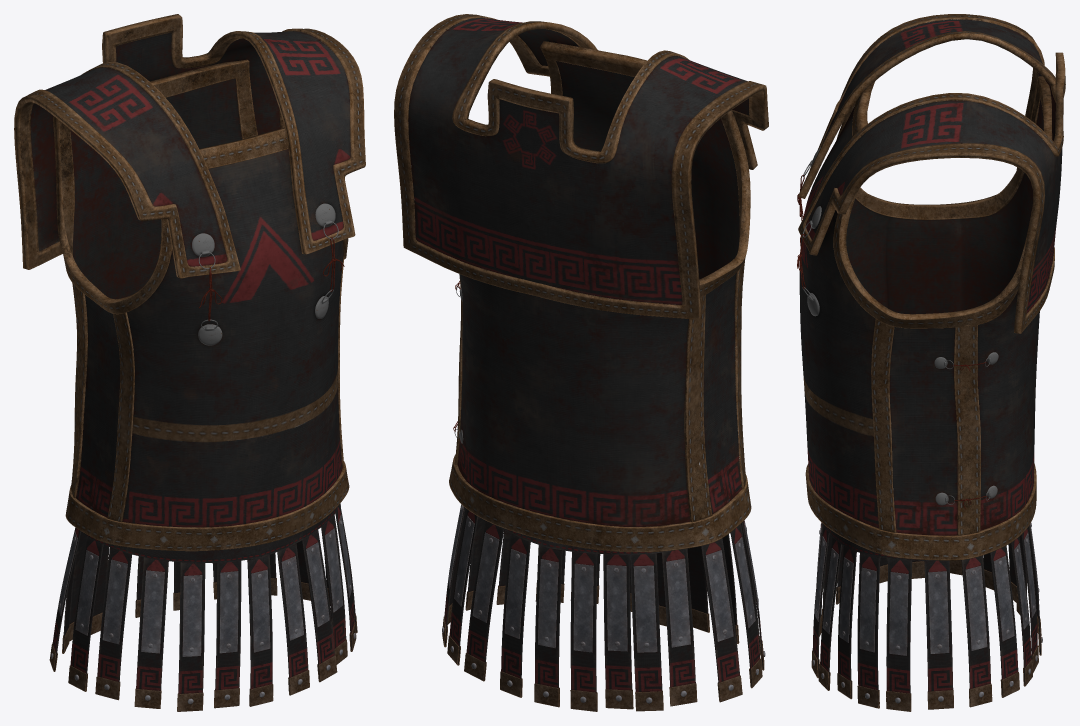
3 renders of one model, left to right at view 1: azimuth 30°, elevation 25°; view 2: azimuth 150°, elevation 25°; view 3: azimuth 270°, elevation 25°, orthographic. The views are drawn at different scales.
Parts seen in each view (by area): view 1: Athenas Sold Chest Base, Rim Belts.003, Athenas belt Sold, Ring Straps.003; view 2: Athenas Sold Chest Base, Rim Belts.003, Athenas belt Sold; view 3: Athenas Sold Chest Base, Rim Belts.003, Athenas belt Sold, Ring Straps.003.
Part boxes in pixels (x1,y1,x2,y2): Athenas Sold Chest Base: [30, 31, 350, 527]; Rim Belts.003: [14, 14, 365, 551]; Athenas belt Sold: [49, 503, 357, 711]; Ring Straps.003: [192, 203, 344, 345]; Athenas Sold Chest Base: [408, 17, 749, 526]; Rim Belts.003: [394, 14, 768, 552]; Athenas belt Sold: [442, 499, 765, 711]; Athenas Sold Chest Base: [799, 19, 1062, 535]; Rim Belts.003: [798, 14, 1065, 560]; Athenas belt Sold: [811, 522, 1042, 711]; Ring Straps.003: [797, 147, 998, 508].
Bounding box in the file's own units: 0.4213 × 0.8406 × 0.3427.
Materials: 4 (4 with a texture image).
